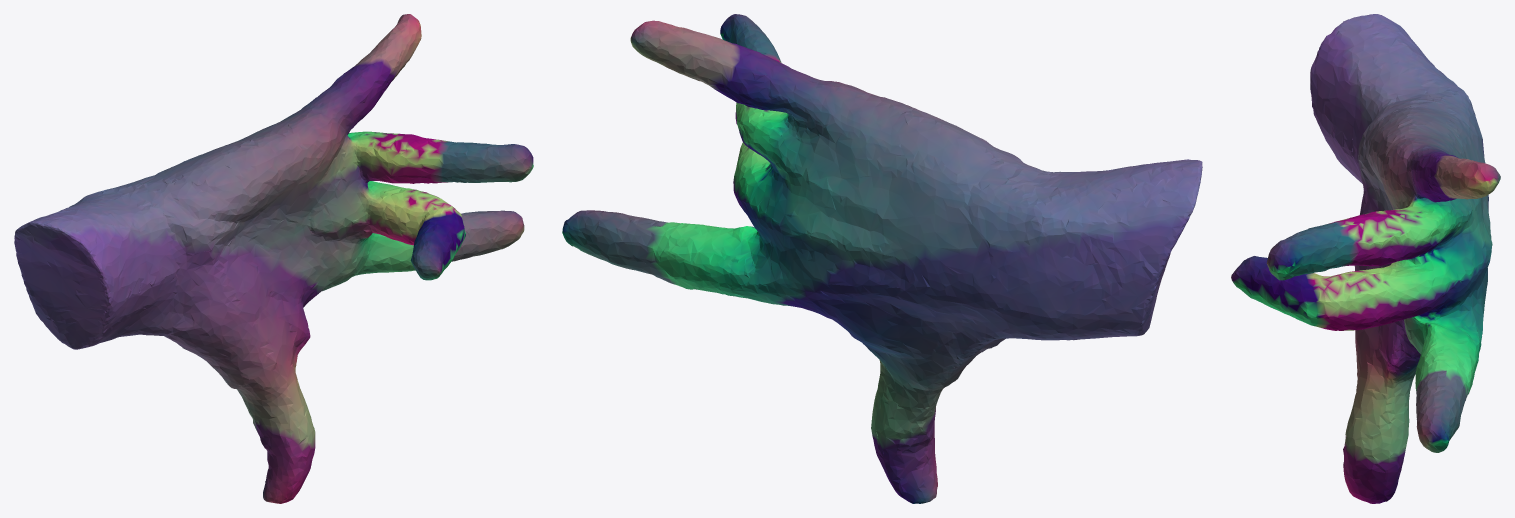
The model's file is hand-15.off.obj.
3 renders of one model, left to right at view 1: azimuth 30°, elevation 25°; view 2: azimuth 150°, elevation 25°; view 3: azimuth 270°, elevation 25°, orthographic. The views are drawn at different scales.
Size of the model in its own units: 1.73 by 1.28 by 0.7237.
